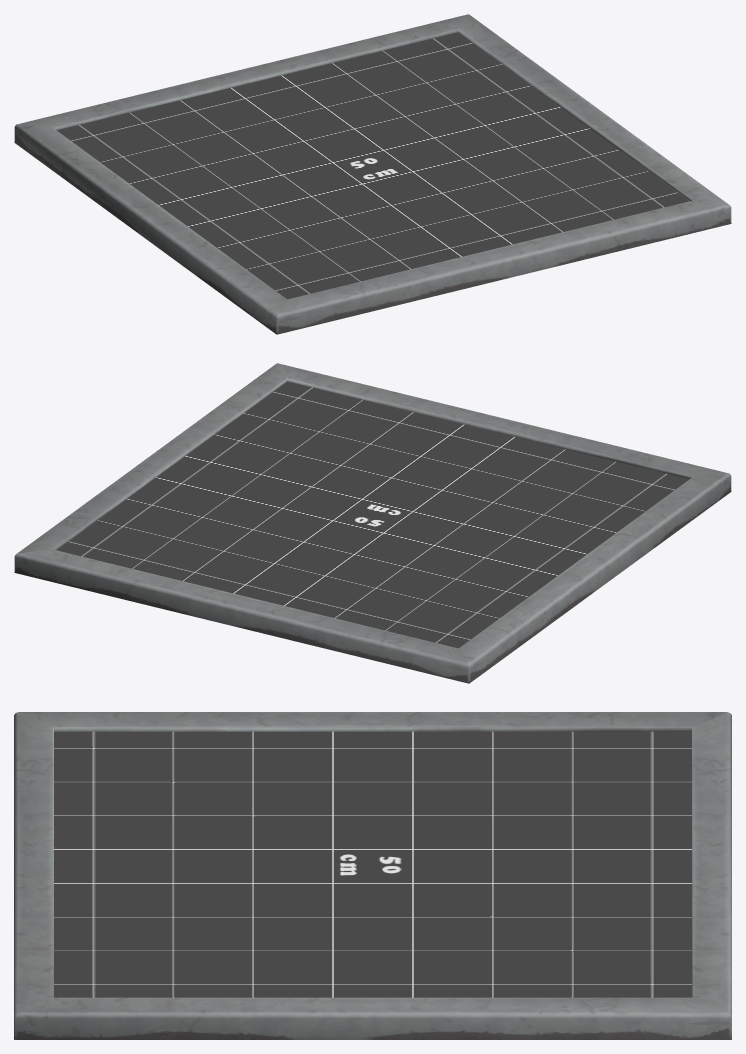
The model's file is M02SideWalk01_12.FBX.
3 views of the same model, one above another, from view 1: azimuth 30°, elevation 25°; view 2: azimuth 150°, elevation 25°; view 3: azimuth 270°, elevation 25° (orthographic). The views are drawn at different scales.
Parts seen in each view (by area): view 1: M02SideWalk01_12; view 2: M02SideWalk01_12; view 3: M02SideWalk01_12.
Boxes of the visible parts, x1,y1,x2,y2 form: M02SideWalk01_12: [14, 14, 731, 334]; M02SideWalk01_12: [14, 363, 731, 683]; M02SideWalk01_12: [14, 712, 731, 1039].
Size of what is drawn, in the model's own units: 4.5 by 0.1783 by 4.5.
